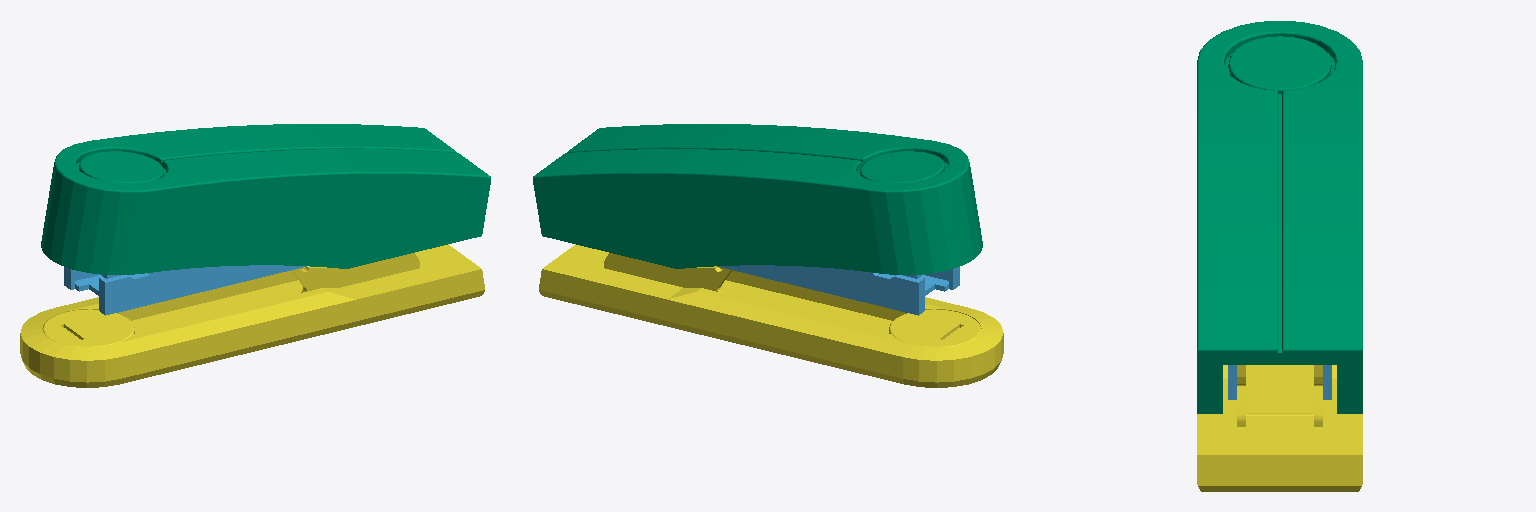
The robot description file, URDF, robot "partnet_f636f0aa2025ba3923c841f9d5051936":
<?xml version="1.0" ?>
<robot name="partnet_f636f0aa2025ba3923c841f9d5051936">
	<mujoco>
		<compiler meshdir="textured_objs" balanceinertia="true" discardvisual="false"/>
	</mujoco>
	<link name="base"/>
	<link name="link_0">
		<visual name="body-1">
			<origin xyz="-0.0 -0.03170983549999317 0.707180978036913"/>
			<geometry>
				<mesh filename="textured_objs/original-8.obj"/>
			</geometry>
		</visual>
		<visual name="body-1">
			<origin xyz="-0.0 -0.03170983549999317 0.707180978036913"/>
			<geometry>
				<mesh filename="textured_objs/original-5.obj"/>
			</geometry>
		</visual>
		<collision>
			<origin xyz="-0.0 -0.03170983549999317 0.707180978036913"/>
			<geometry>
				<mesh filename="textured_objs/original-8.obj"/>
			</geometry>
		</collision>
		<collision>
			<origin xyz="-0.0 -0.03170983549999317 0.707180978036913"/>
			<geometry>
				<mesh filename="textured_objs/original-5.obj"/>
			</geometry>
		</collision>
	</link>
	<joint name="joint_0" type="revolute">
		<origin xyz="0.0 0.0 0.0"/>
		<axis xyz="1.0 -0.0 -0.0"/>
		<child link="link_0"/>
		<parent link="link_1"/>
		<limit lower="-0.11938052083641214" upper="2.5886723465579897"/>
	</joint>
	<link name="link_1">
		<visual name="lid-2">
			<origin xyz="-0.0 -0.03170983549999317 0.707180978036913"/>
			<geometry>
				<mesh filename="textured_objs/original-4.obj"/>
			</geometry>
		</visual>
		<collision>
			<origin xyz="-0.0 -0.03170983549999317 0.707180978036913"/>
			<geometry>
				<mesh filename="textured_objs/original-4.obj"/>
			</geometry>
		</collision>
	</link>
	<joint name="joint_1" type="revolute">
		<origin xyz="0.0 0.03170983549999317 -0.707180978036913"/>
		<axis xyz="-1.0 0.0 0.0"/>
		<child link="link_1"/>
		<parent link="link_2"/>
		<limit lower="-0.17592918860102813" upper="1.8032741831605412"/>
	</joint>
	<link name="link_2">
		<visual name="base_body-3">
			<origin xyz="0 0 0"/>
			<geometry>
				<mesh filename="textured_objs/original-3.obj"/>
			</geometry>
		</visual>
		<visual name="base_body-3">
			<origin xyz="0 0 0"/>
			<geometry>
				<mesh filename="textured_objs/original-2.obj"/>
			</geometry>
		</visual>
		<visual name="base_body-3">
			<origin xyz="0 0 0"/>
			<geometry>
				<mesh filename="textured_objs/original-6.obj"/>
			</geometry>
		</visual>
		<visual name="base_body-3">
			<origin xyz="0 0 0"/>
			<geometry>
				<mesh filename="textured_objs/original-7.obj"/>
			</geometry>
		</visual>
		<visual name="base_body-3">
			<origin xyz="0 0 0"/>
			<geometry>
				<mesh filename="textured_objs/original-1.obj"/>
			</geometry>
		</visual>
		<collision>
			<origin xyz="0 0 0"/>
			<geometry>
				<mesh filename="textured_objs/original-3.obj"/>
			</geometry>
		</collision>
		<collision>
			<origin xyz="0 0 0"/>
			<geometry>
				<mesh filename="textured_objs/original-2.obj"/>
			</geometry>
		</collision>
		<collision>
			<origin xyz="0 0 0"/>
			<geometry>
				<mesh filename="textured_objs/original-6.obj"/>
			</geometry>
		</collision>
		<collision>
			<origin xyz="0 0 0"/>
			<geometry>
				<mesh filename="textured_objs/original-7.obj"/>
			</geometry>
		</collision>
		<collision>
			<origin xyz="0 0 0"/>
			<geometry>
				<mesh filename="textured_objs/original-1.obj"/>
			</geometry>
		</collision>
	</link>
	<joint name="joint_2" type="fixed">
		<origin rpy="1.570796326794897 0 -1.570796326794897" xyz="0 0 0"/>
		<child link="link_2"/>
		<parent link="base"/>
	</joint>
</robot>

--- What the picture shows (computed from the rendered views, not written in the file) ---
Views: 3 orthographic renders of the robot side by side, from view 1: azimuth 30°, elevation 25°; view 2: azimuth 150°, elevation 25°; view 3: azimuth 270°, elevation 25°.
Model partnet_f636f0aa2025ba3923c841f9d5051936 with 4 links and 3 joints (2 revolute, 1 fixed), rooted at base, posed every joint at zero.
Links seen in each view (by area): view 1: link_1, link_2, link_0; view 2: link_1, link_2, link_0; view 3: link_1, link_2, link_0.
Link boxes in pixels (box(x1,y1,x2,y2)): link_1: box(41, 124, 490, 274); link_2: box(20, 244, 484, 387); link_0: box(64, 265, 306, 315); link_1: box(533, 124, 982, 274); link_2: box(539, 244, 1003, 387); link_0: box(717, 265, 959, 315); link_1: box(1197, 21, 1362, 413); link_2: box(1197, 365, 1362, 491); link_0: box(1228, 365, 1331, 399).
Size in the robot's own frame: 1.89 by 0.5107 by 0.8076 metres.
8 mesh visuals loaded from 8 distinct referenced files (8 OBJ).
